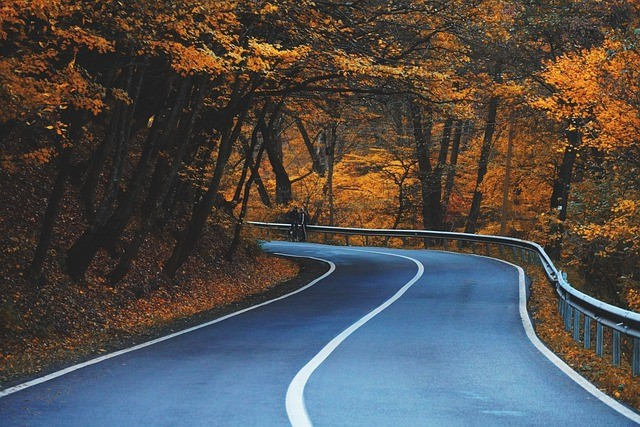leftTrun: (268, 229, 534, 368)
